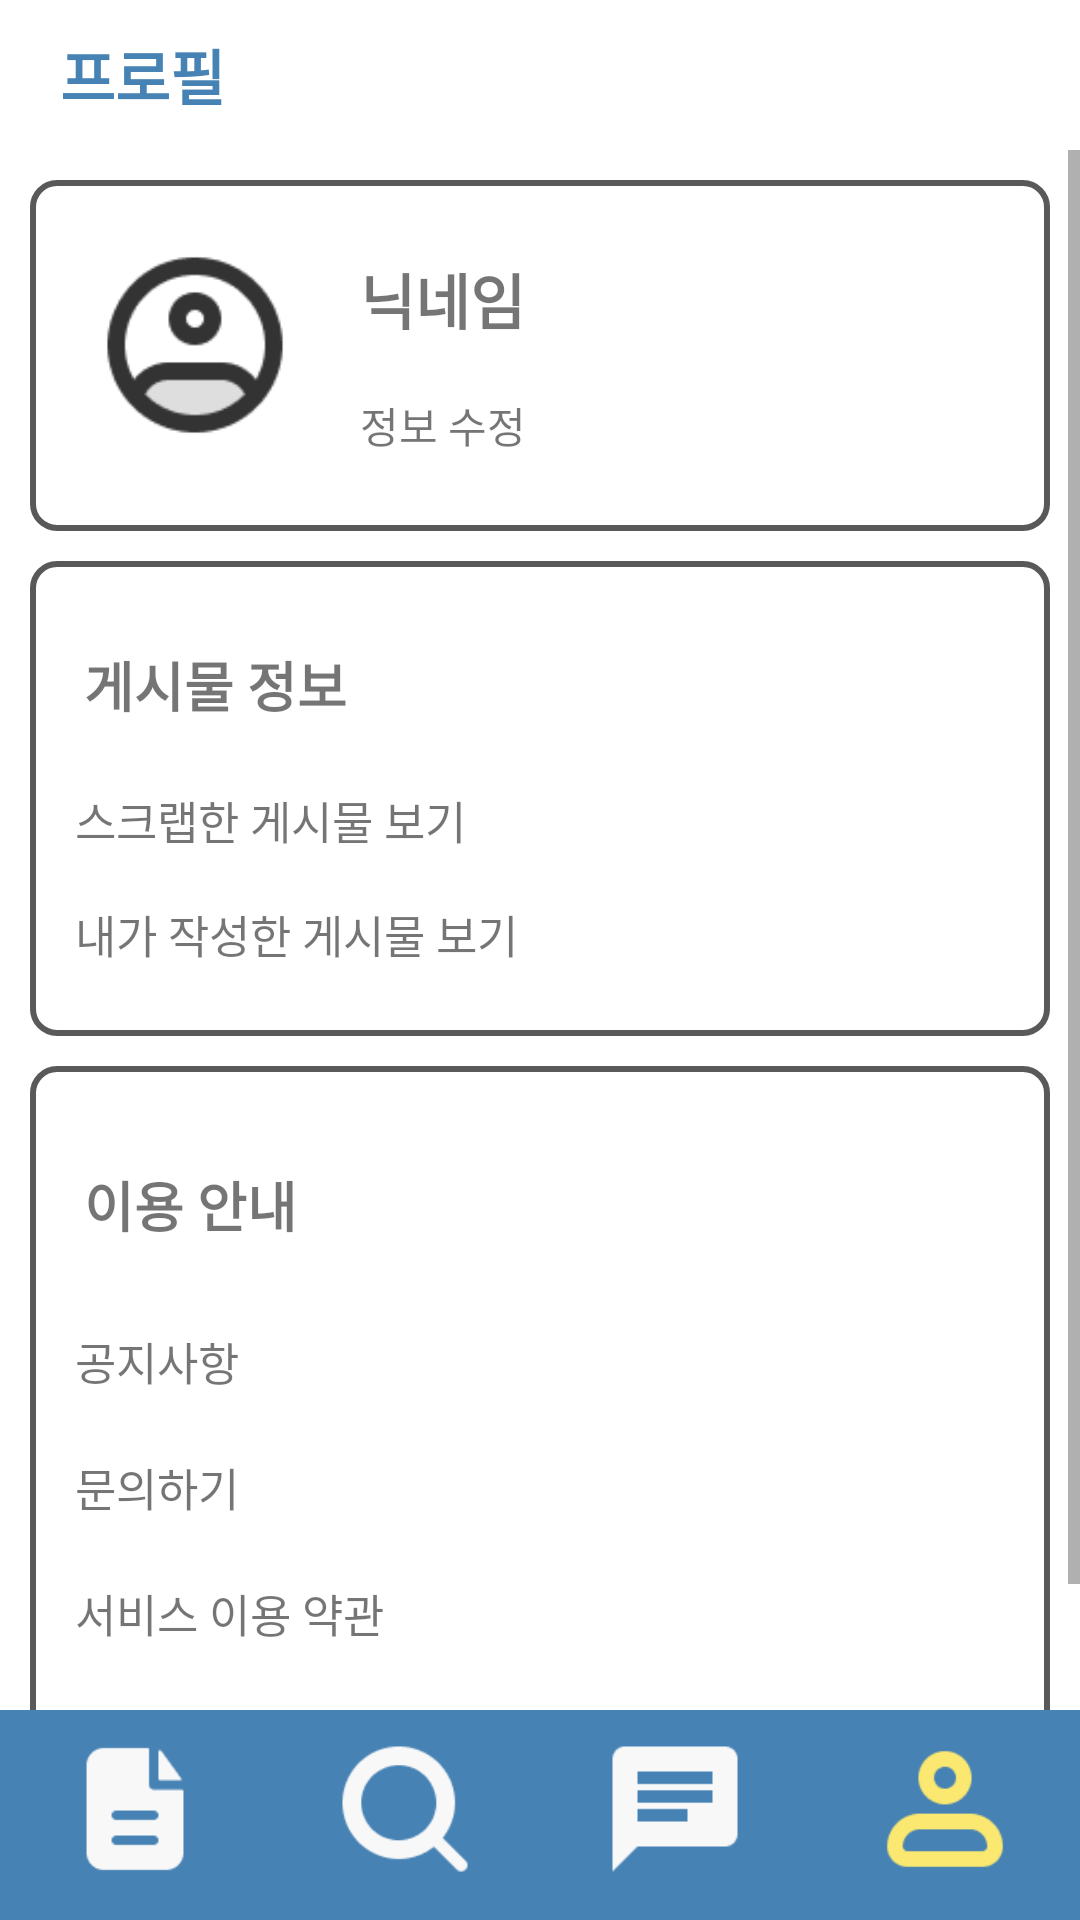

Screen size 1080x1920. Icon name, then its center in pixels as point (x, y):
offchat: point (675, 1809)
offdocument: point (135, 1809)
offsearch: point (405, 1809)
onprofile: point (945, 1809)
profileicon: point (195, 345)
